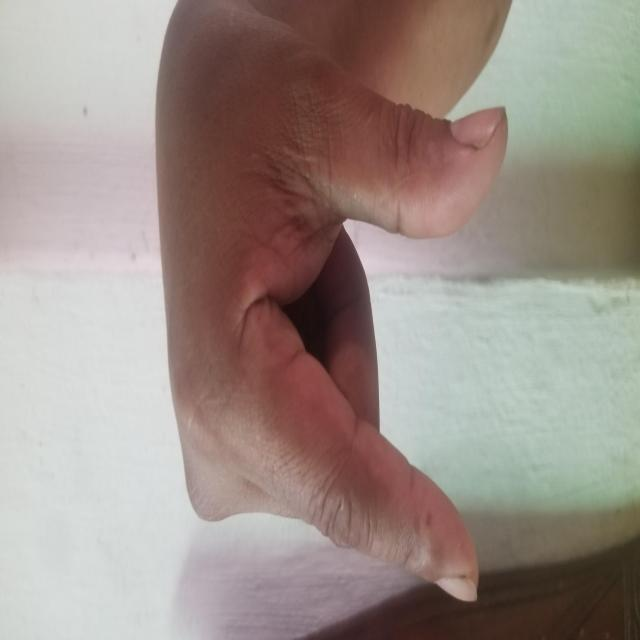Q: (134, 50, 538, 605)
